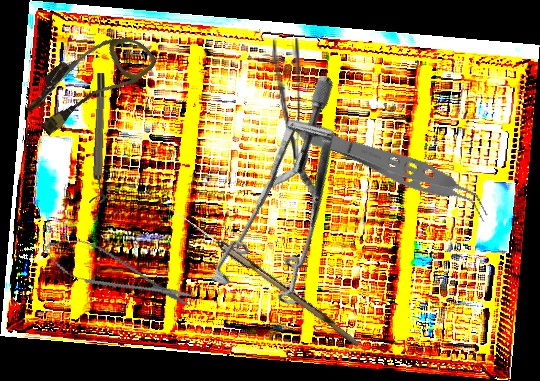Cannula: (18, 13, 159, 149)
Dressing Forceps: (272, 38, 301, 172)
Fixation Ring: (88, 72, 113, 204)
Micro Scissor: (37, 228, 200, 320)
Speculum: (152, 70, 428, 339)
Surgical Spoon: (165, 204, 364, 347)
Tissue Forceps: (291, 113, 497, 224)
